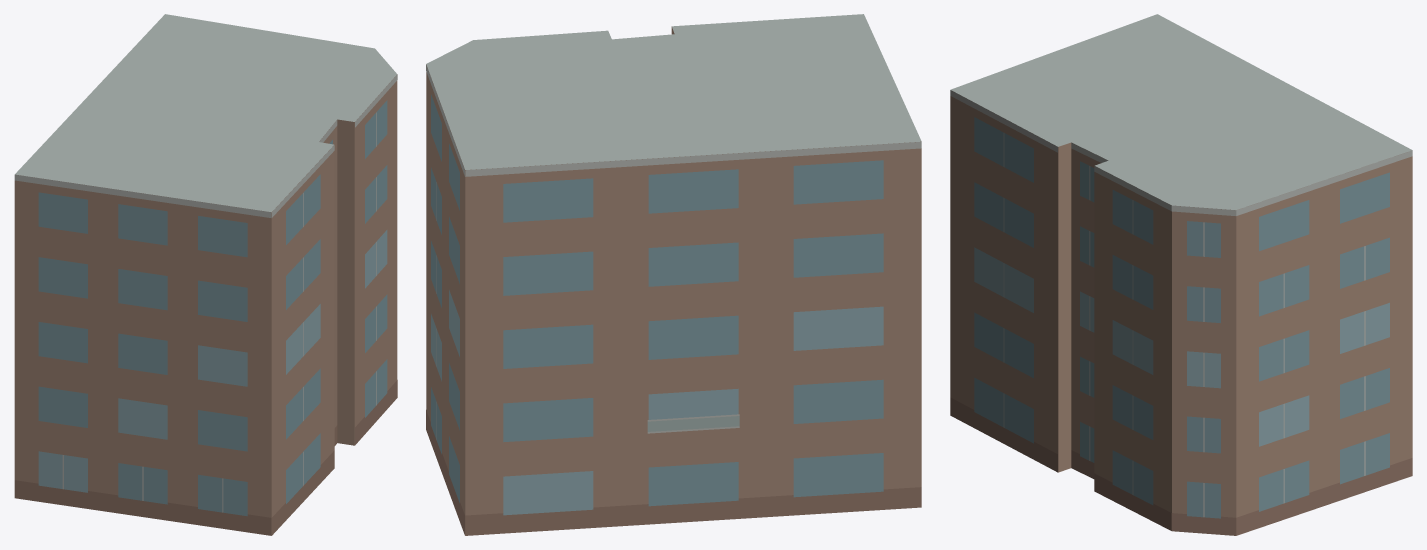
File: survey-upis-32777105.glb
The picture shows the model from 3 angles, left to right: view 1: azimuth 30°, elevation 25°; view 2: azimuth 150°, elevation 25°; view 3: azimuth 270°, elevation 25°; orthographic projection. The views are drawn at different scales.
Visible parts, largest first — view 1: survey-upis-32777105.tmp; view 2: survey-upis-32777105.tmp; view 3: survey-upis-32777105.tmp.
Part boxes in pixels (bbox=[...]): survey-upis-32777105.tmp: bbox=[14, 14, 397, 535]; survey-upis-32777105.tmp: bbox=[426, 14, 921, 535]; survey-upis-32777105.tmp: bbox=[950, 14, 1412, 535].
Bounding box in the file's own units: 17.06 × 13.2 × 16.99.
